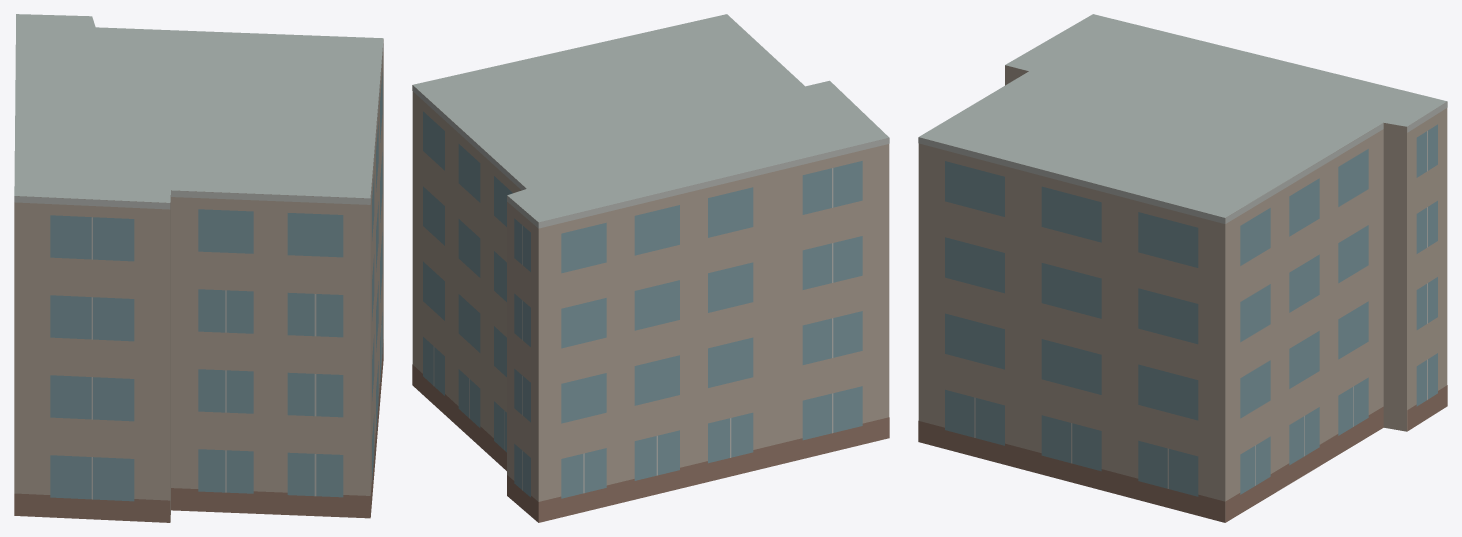
Rendered from survey-upis-32499862.glb.
The picture shows the model from 3 angles, left to right: view 1: azimuth 30°, elevation 25°; view 2: azimuth 150°, elevation 25°; view 3: azimuth 270°, elevation 25°; orthographic projection. The views are drawn at different scales.
Visible parts, largest first — view 1: survey-upis-32499862.tmp; view 2: survey-upis-32499862.tmp; view 3: survey-upis-32499862.tmp.
Boxes of the visible parts, <box> form: survey-upis-32499862.tmp: <box>14,14,383,522</box>; survey-upis-32499862.tmp: <box>412,14,889,522</box>; survey-upis-32499862.tmp: <box>918,14,1447,522</box>.
Bounding box in the file's own units: 17.08 × 11.9 × 18.72.
